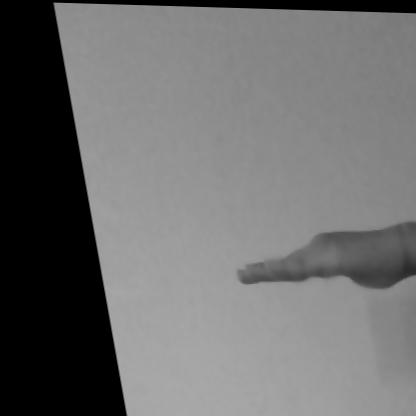palm: (210, 215, 415, 342)
